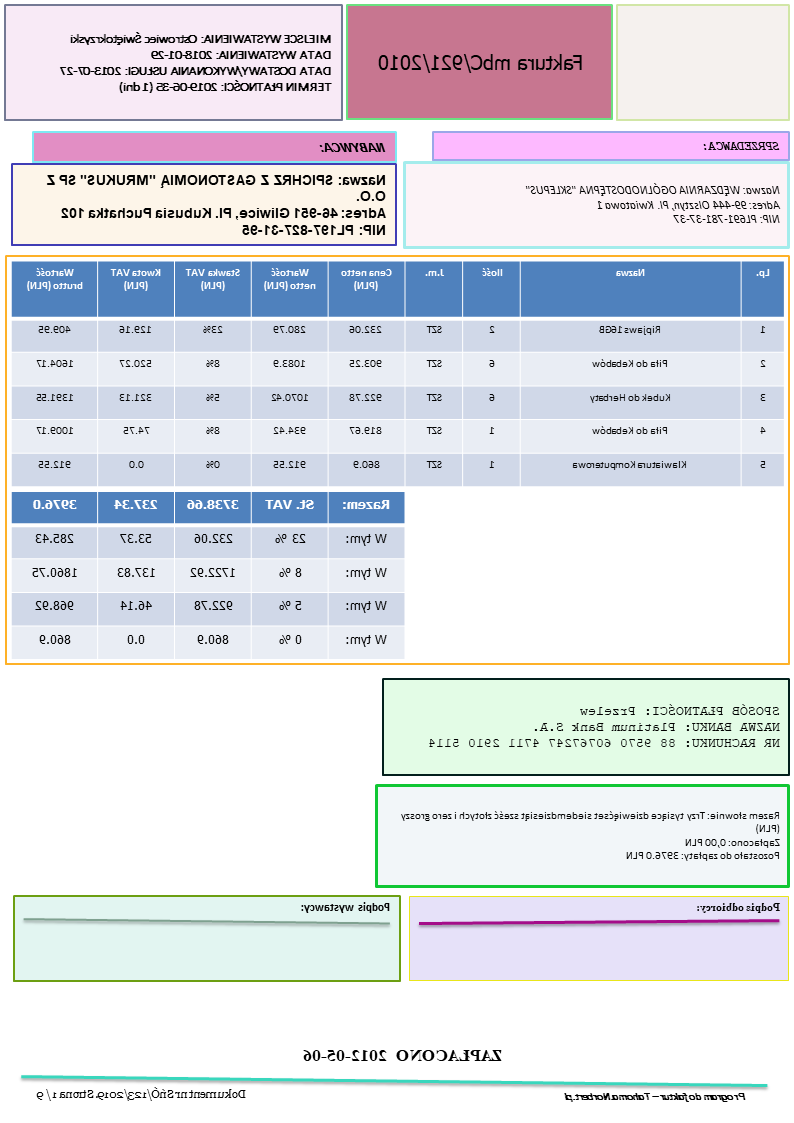Table: (9, 259, 787, 490), (8, 491, 406, 660)
TextBox: (42, 168, 392, 242), (397, 807, 784, 865), (426, 699, 783, 755), (56, 29, 337, 98), (520, 177, 784, 229), (375, 43, 594, 79), (33, 1084, 251, 1107), (297, 1045, 506, 1068), (558, 1084, 750, 1105), (694, 896, 784, 918), (296, 898, 395, 918), (318, 134, 390, 159), (703, 135, 786, 155)
